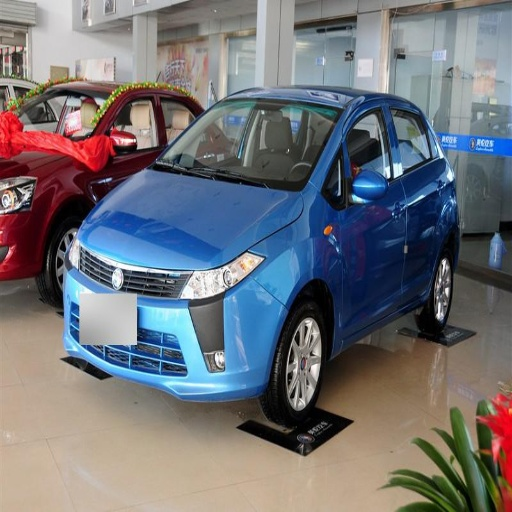front_bumper: (65, 249, 286, 401)
front_glass: (152, 98, 343, 190)
front_left_door: (335, 100, 407, 327)
